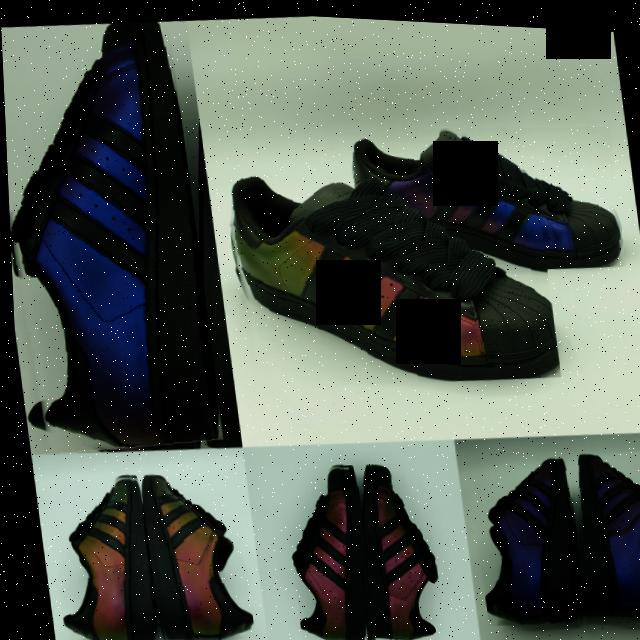shoe: (0, 12, 220, 462), (216, 142, 559, 398), (341, 102, 627, 282), (462, 445, 584, 624), (134, 464, 250, 640), (39, 467, 154, 640), (275, 456, 373, 640), (344, 453, 440, 640), (562, 439, 640, 620)
